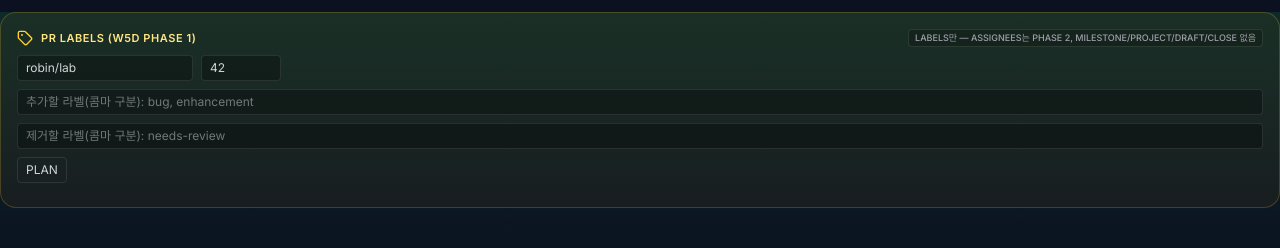
Test: PullRequestLabelsUpdateCard — W5d Phase 1 › (#3) no_op 응답 → 안내 + execute 부재
Step 1. Type "bug" into the field named "pr-labels add" → (640, 102), box [17,89,1263,115]
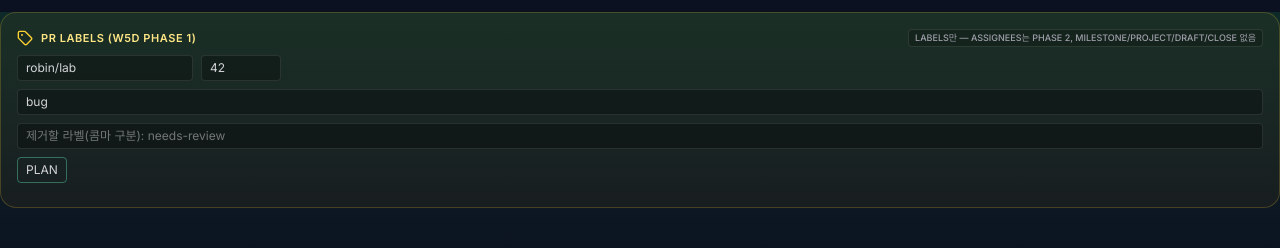
Step 2. Click the button with test id "publish-pr-labels-plan" → (42, 170), box [17,157,67,183]
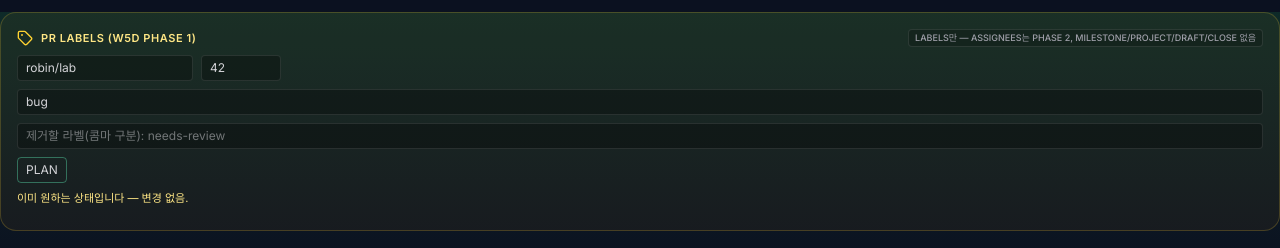
Result: the text with test id "publish-pr-labels-plan-message" shows "변경 없음" at [17,191,188,205]
